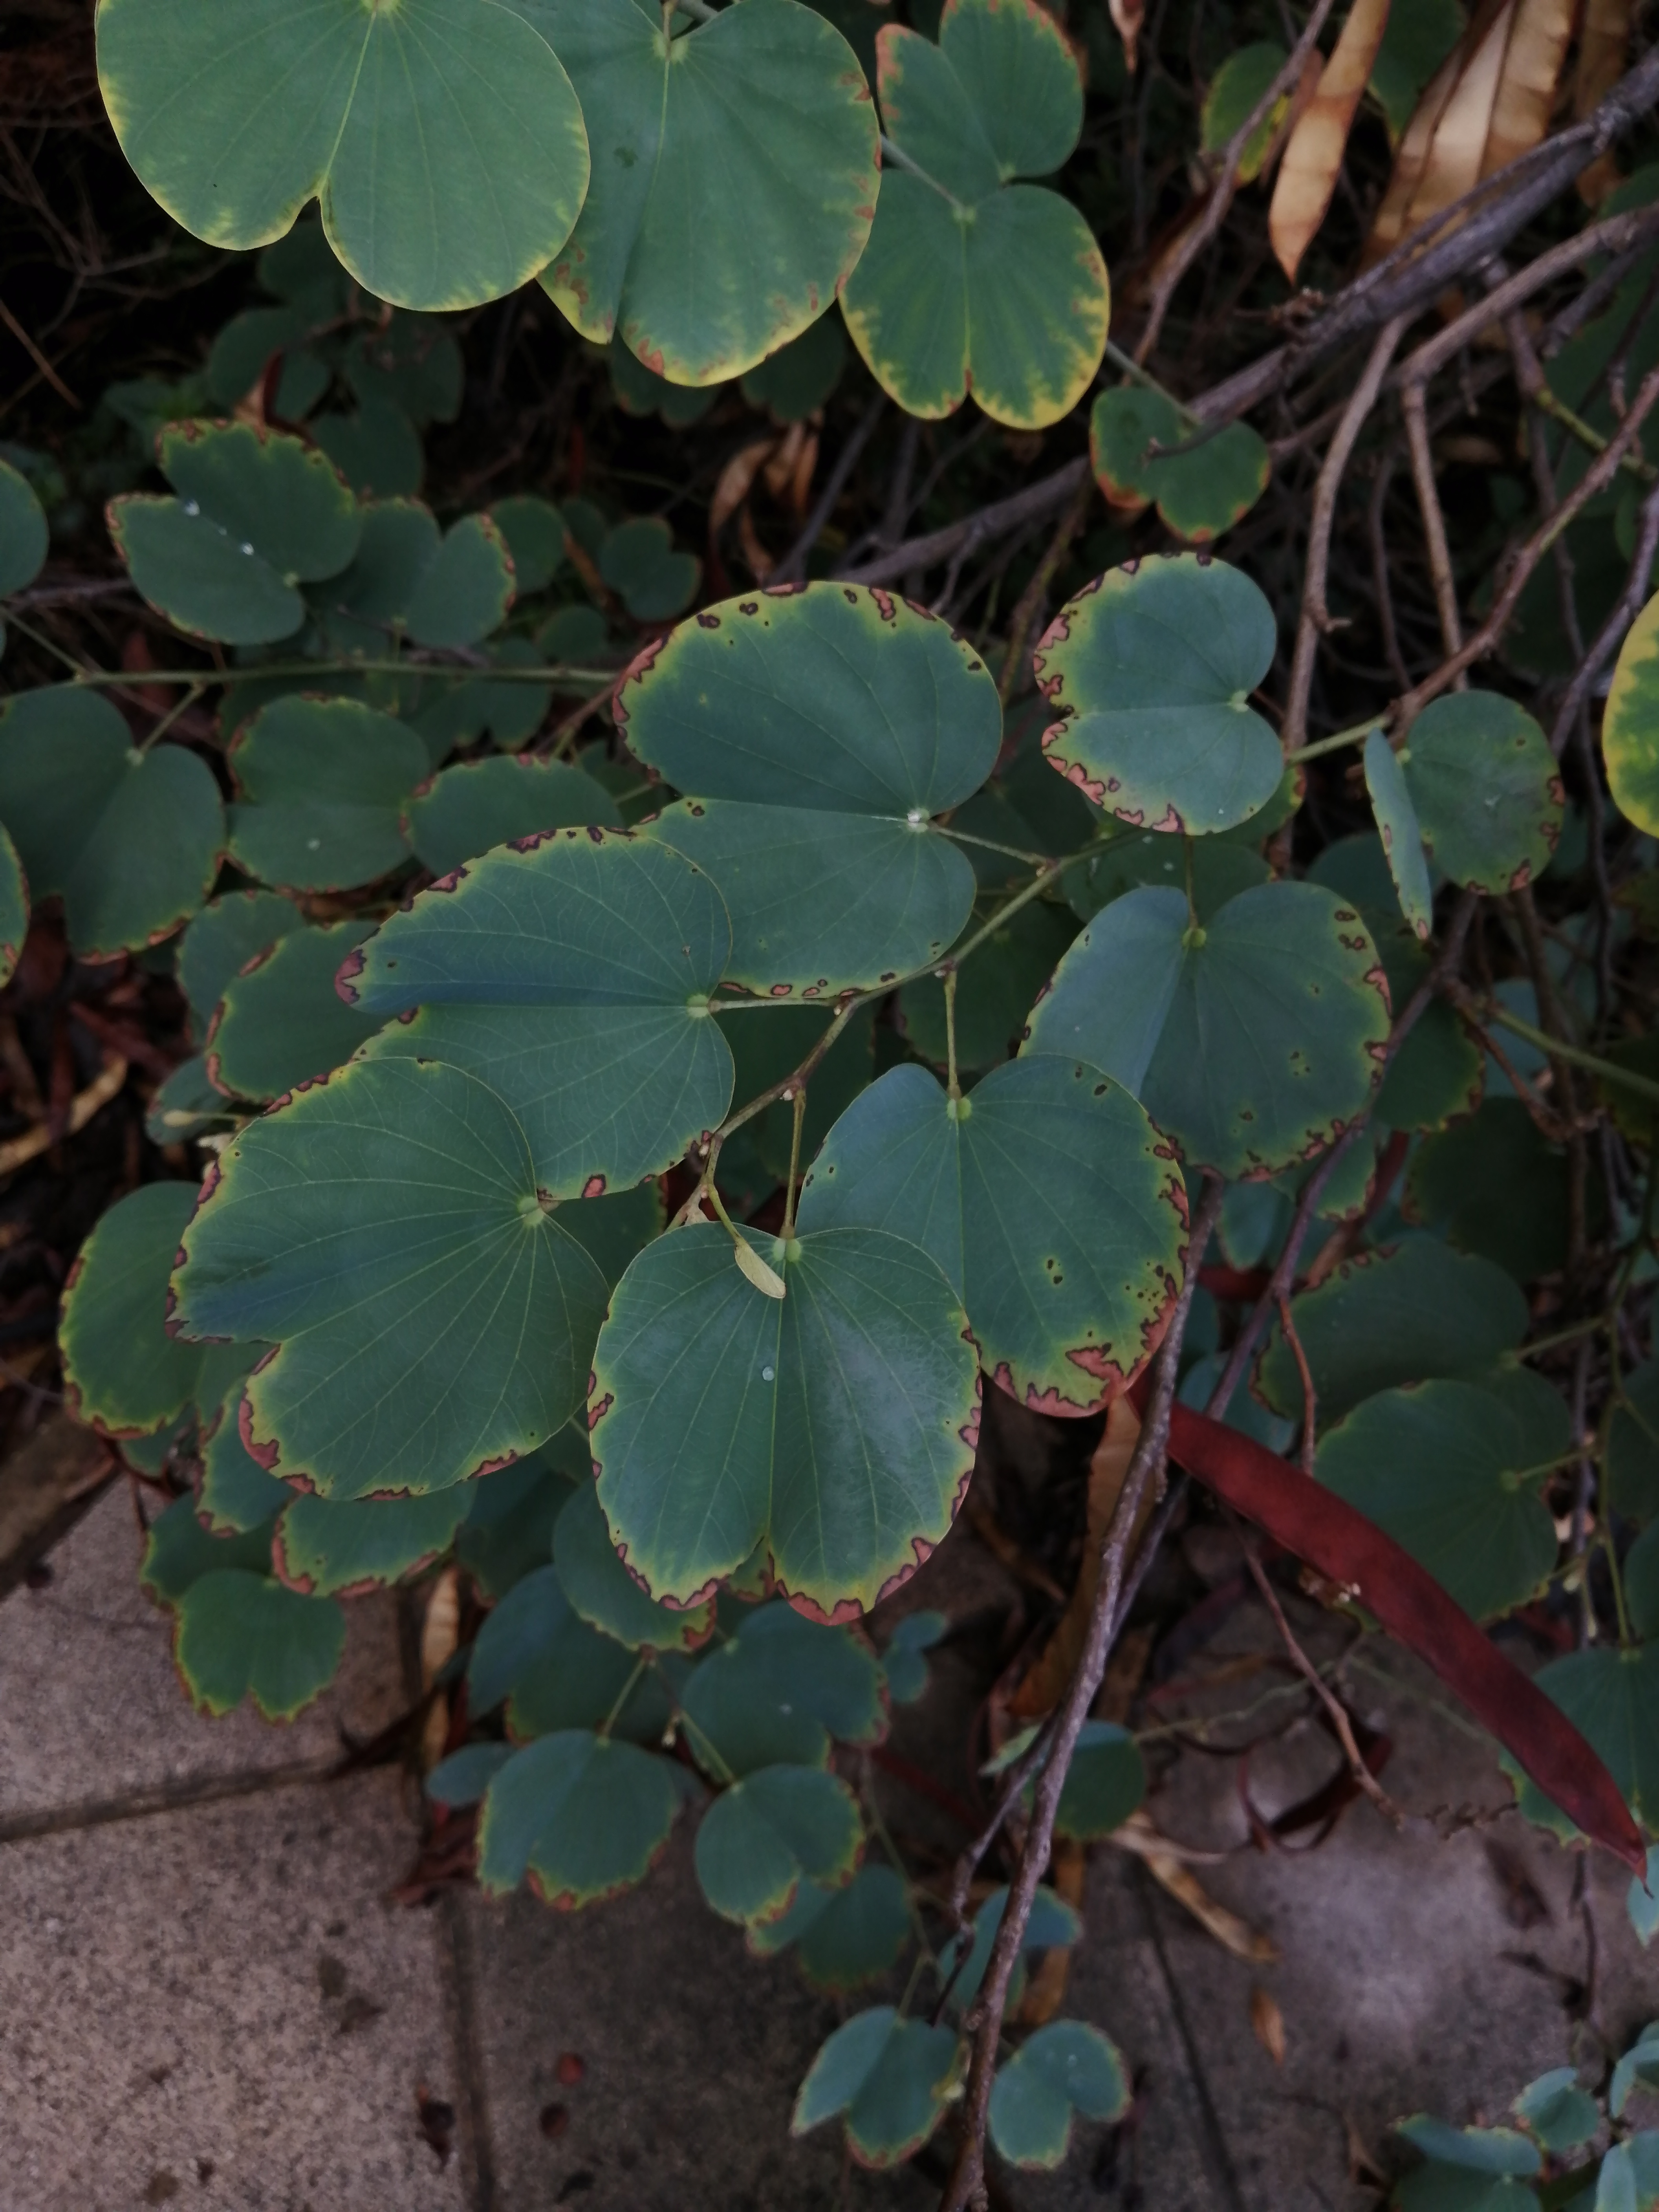healthy: (89, 3, 587, 315)
nothealthy: (160, 1028, 627, 1538), (603, 578, 1025, 1028), (587, 1197, 997, 1635), (336, 812, 755, 1228), (803, 1038, 1213, 1442), (467, 7, 894, 394), (1018, 860, 1412, 1184), (1025, 550, 1307, 848), (94, 411, 371, 664), (1345, 711, 1591, 944), (467, 1728, 688, 1935), (674, 1761, 885, 1918)
